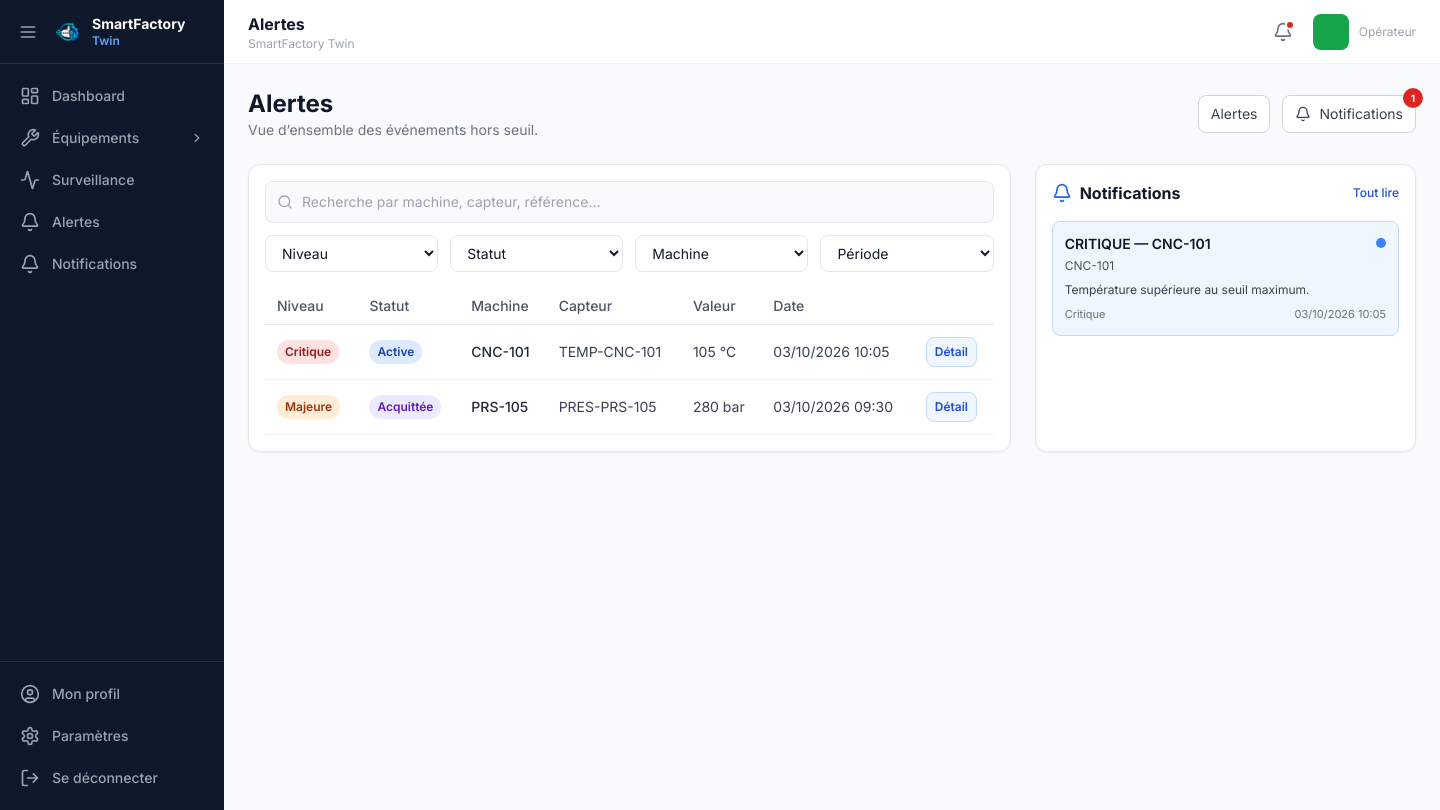
Scenario: AlertesPage › ouvre le détail et exige un commentaire obligatoire avant acquittement
The width and height of the screenshot is (1440, 810).
Click the button "Détail" in the row of "Active".
click(951, 352)  # box [926,337,977,367]
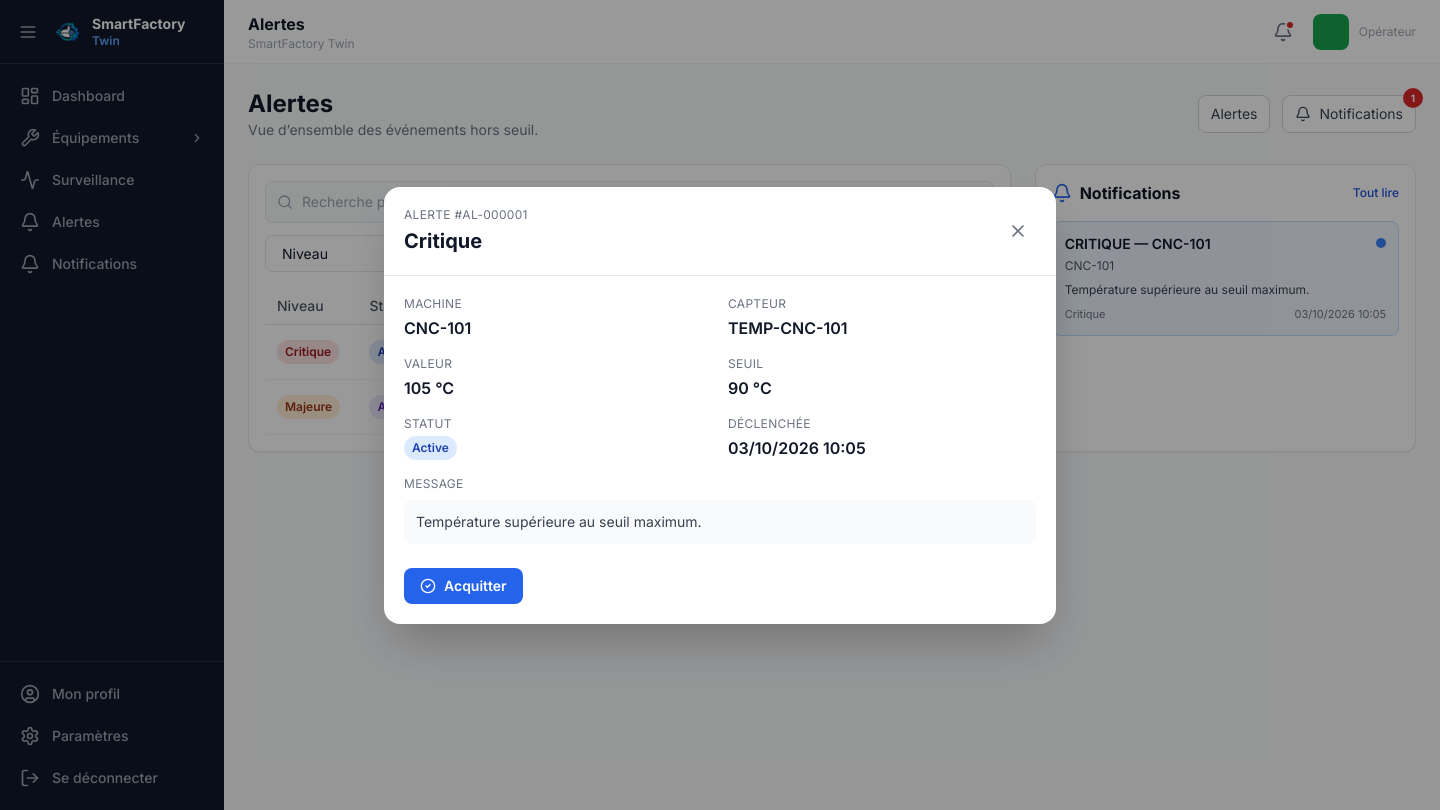
Expected: the 1st text "Température supérieure au seuil maximum." is shown, [1065,282,1310,297]
Now the button "Acquitter" is shown
Click the button "Acquitter".
click(463, 586)  # box [404,568,523,604]
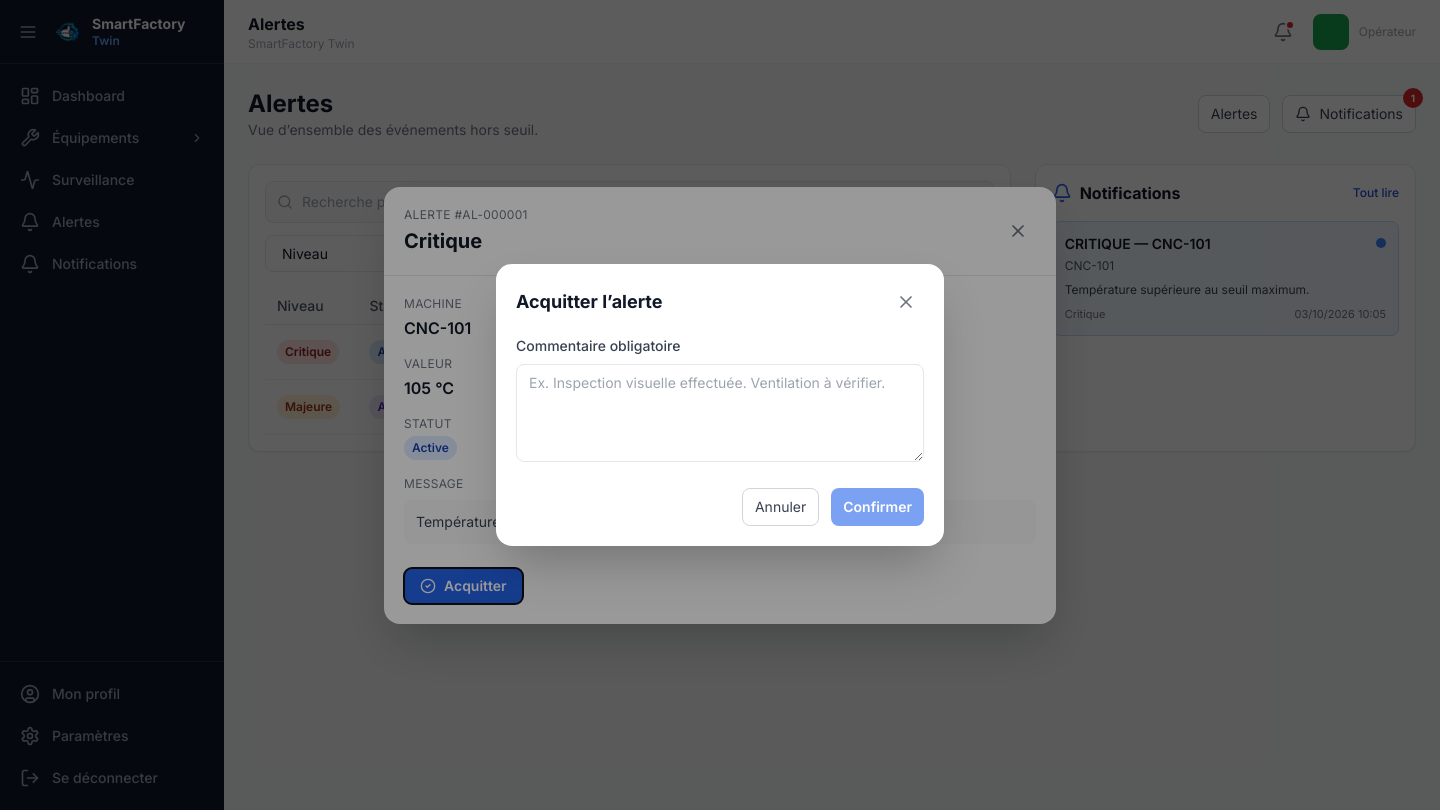
Now the button "Confirmer" is disabled, box [831,488,924,526]
Type "Inspection visuelle effectuée." into the text box with placeholder "Ex. Inspection visuelle effectuée. Ventilation à vérifier.".
click(720, 413); type("Inspection visuelle effectuée.")  # box [516,364,924,462]
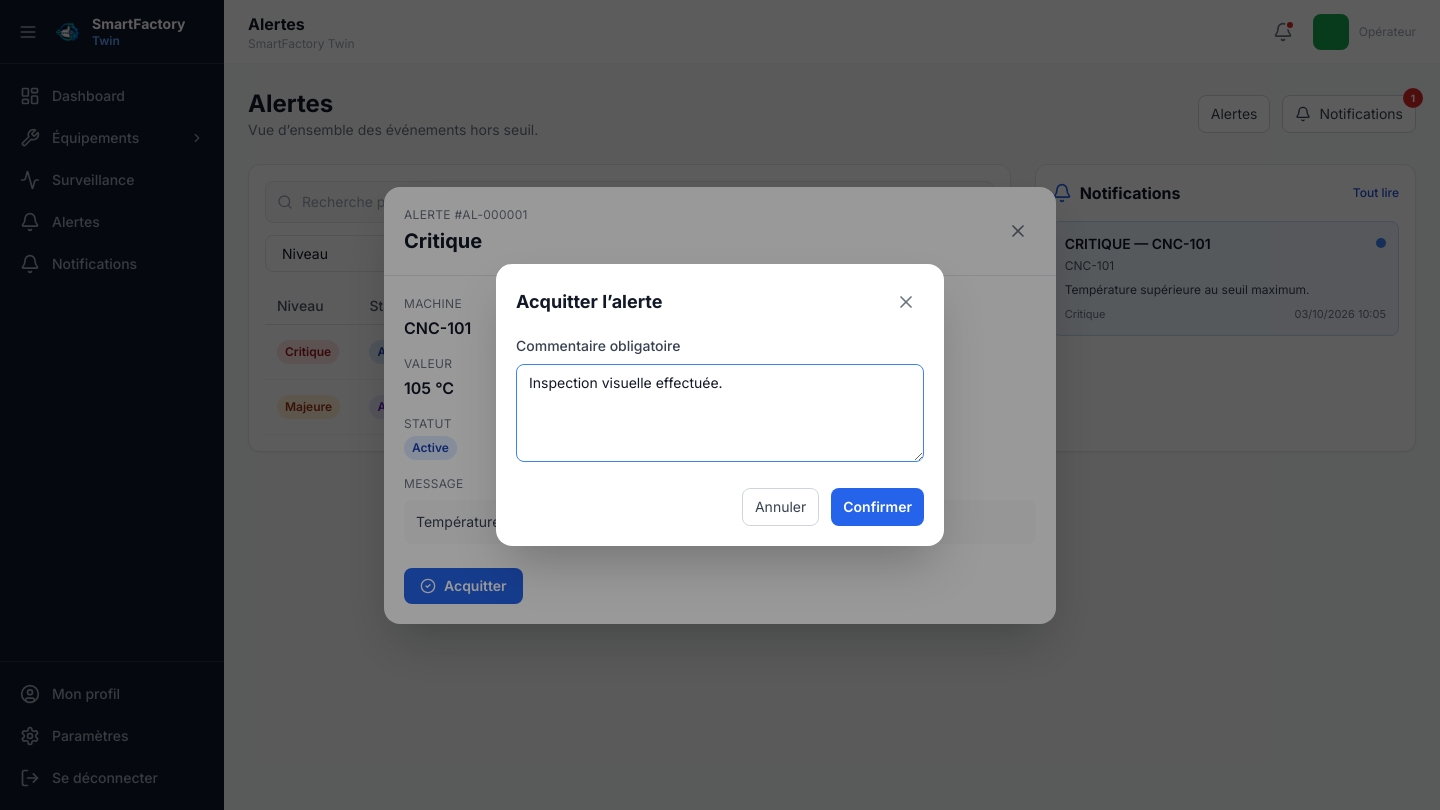
Now the button "Confirmer" is enabled, box [831,488,924,526]
